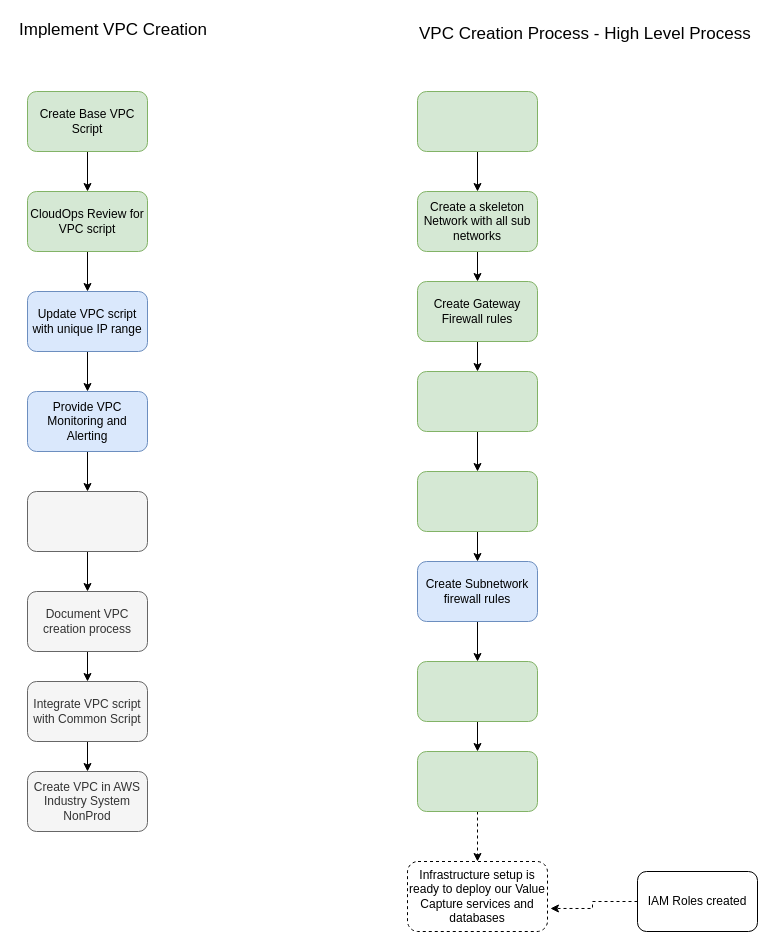
Image size: 784x949. Some labels were removed from this diagram. Here are the shapes that lost their labels. From the top down, the centre of each, then its label:
(477,121): Execute VPC script
(477,401): Create Primary and Backup Gateway servers
(87,521): Define Private Subnet Security Group
(477,501): Create Network Firewall rules
(477,691): Create Tags for cost management
(477,781): VPC Network created successfully
